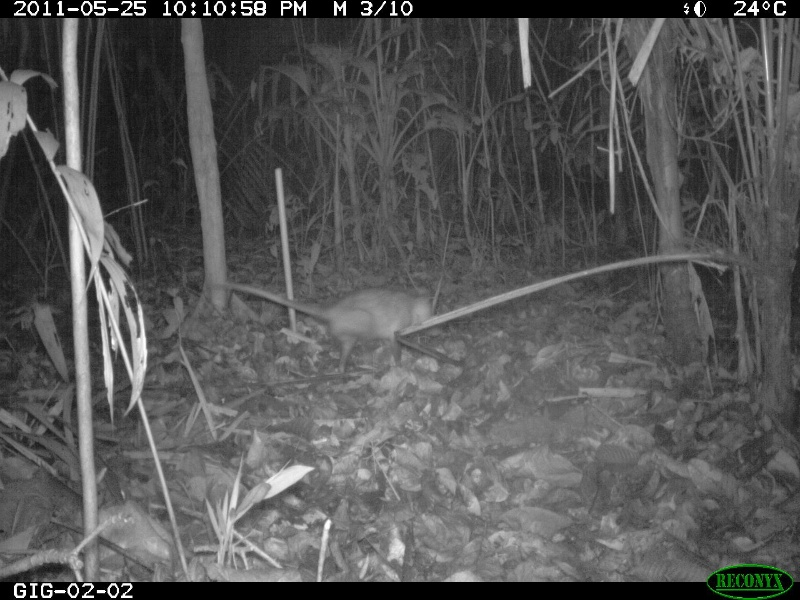opossum: (206, 277, 433, 366)
